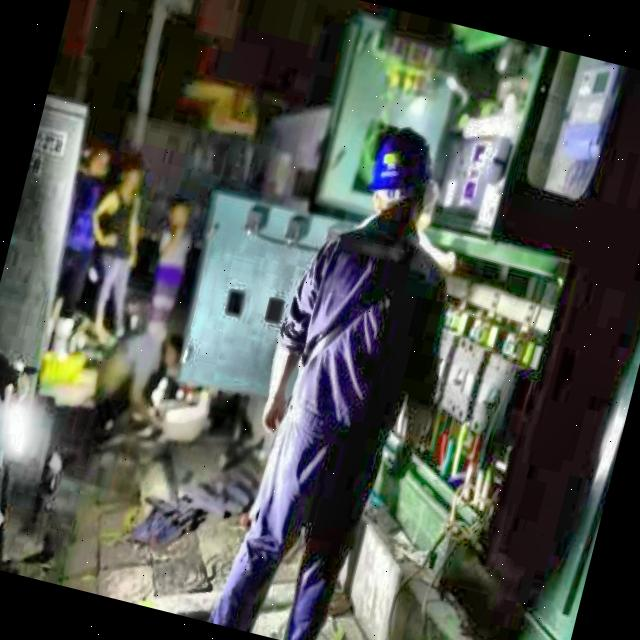helmet: (362, 118, 448, 225)
